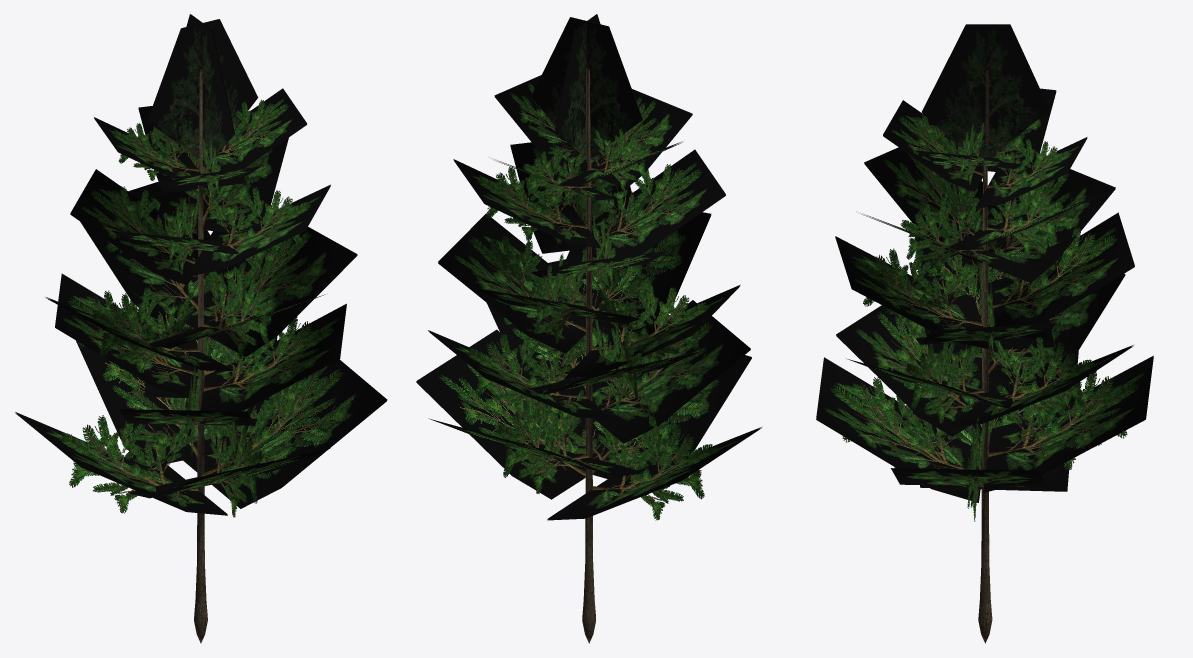
File: ever_endr_babyredwood_l0.fbx
The picture shows the model from 3 angles, left to right: view 1: azimuth 30°, elevation 25°; view 2: azimuth 150°, elevation 25°; view 3: azimuth 270°, elevation 25°; orthographic projection.
Parts seen in each view (by area): view 1: mesh_node; view 2: mesh_node; view 3: mesh_node.
Part boxes in pixels (<box>): mesh_node: <box>15,14,387,643</box>; mesh_node: <box>416,14,762,643</box>; mesh_node: <box>816,24,1153,643</box>.
Size of the model in its own units: 5.08 by 8.98 by 5.08.
